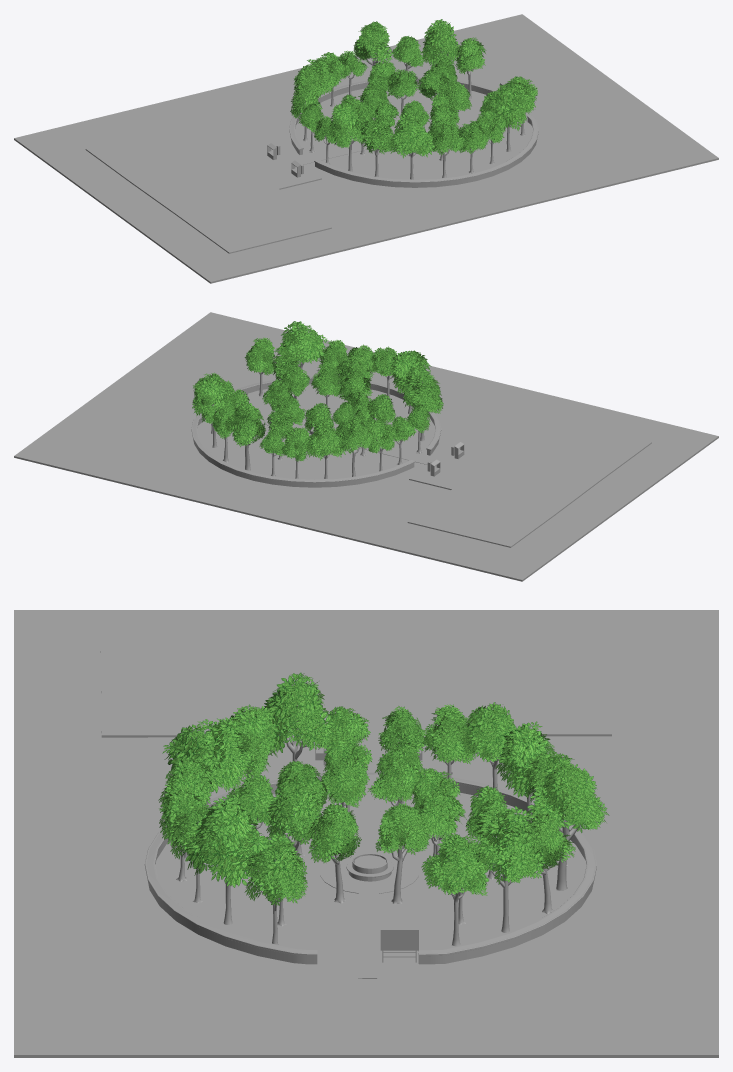
File: School_Park_2.fbx
3 renders of one model, top to bottom at view 1: azimuth 30°, elevation 25°; view 2: azimuth 150°, elevation 25°; view 3: azimuth 270°, elevation 25°, orthographic. The views are drawn at different scales.
Visible parts, largest first — view 1: Ground, Main_Path, pCube1, Tree_7_Leaf78, Tree_12_Leaf78, Tree_19_Leaf69, Tree_11_group3_Leaf42, Tree_6_Leaf69, Tree_18_Leaf69, Tree_10_Leaf78, Tree_9_Leaf78, Tree_25_Leaf78 (+15 smaller); view 2: Ground, Main_Path, pCube1, Tree_7_Leaf78, Tree_6_Leaf69, Tree_11_group3_Leaf42, Tree_19_Leaf69, Tree_15_Leaf78, Tree_16_Leaf78, Tree_8_Leaf69, Tree_12_Leaf78, Tree_24_Leaf69 (+18 smaller); view 3: Ground, Main_Path, pCube1, Tree_7_Leaf78, Tree_6_Leaf69, Tree_11_group3_Leaf42, Tree_19_Leaf69, Tree_12_Leaf78, Tree_8_Leaf69, Tree_9_Leaf78, Tree_23_group3_Leaf42, Tree_15_Leaf78 (+23 smaller).
Part boxes in pixels (x1,y1,x2,y2): Ground: [14, 14, 718, 283]; Main_Path: [85, 108, 535, 253]; pCube1: [289, 76, 538, 187]; Tree_7_Leaf78: [483, 80, 529, 151]; Tree_12_Leaf78: [387, 111, 434, 179]; Tree_19_Leaf69: [327, 102, 370, 171]; Tree_11_group3_Leaf42: [353, 21, 393, 65]; Tree_6_Leaf69: [421, 19, 460, 66]; Tree_18_Leaf69: [359, 117, 393, 176]; Tree_10_Leaf78: [427, 122, 465, 177]; Tree_9_Leaf78: [455, 37, 486, 99]; Tree_25_Leaf78: [385, 69, 418, 113]; Ground: [14, 312, 718, 581]; Main_Path: [258, 417, 651, 547]; pCube1: [191, 376, 441, 487]; Tree_7_Leaf78: [274, 321, 328, 393]; Tree_6_Leaf69: [192, 377, 234, 447]; Tree_11_group3_Leaf42: [224, 401, 265, 471]; Tree_19_Leaf69: [402, 370, 443, 441]; Tree_15_Leaf78: [305, 419, 345, 478]; Tree_16_Leaf78: [333, 415, 375, 476]; Tree_8_Leaf69: [244, 337, 275, 396]; Tree_12_Leaf78: [390, 350, 431, 413]; Tree_24_Leaf69: [311, 362, 341, 407]; Ground: [14, 610, 718, 1057]; Main_Path: [100, 644, 611, 978]; pCube1: [144, 772, 596, 964]; Tree_7_Leaf78: [180, 794, 271, 924]; Tree_6_Leaf69: [471, 804, 545, 932]; Tree_11_group3_Leaf42: [524, 763, 609, 890]; Tree_19_Leaf69: [263, 672, 334, 761]; Tree_12_Leaf78: [162, 717, 251, 808]; Tree_8_Leaf69: [244, 841, 307, 944]; Tree_9_Leaf78: [421, 835, 488, 946]; Tree_23_group3_Leaf42: [307, 803, 361, 903]; Tree_15_Leaf78: [495, 721, 559, 822].
Bounding box in the file's own units: 138 × 20.71 × 92.44.
